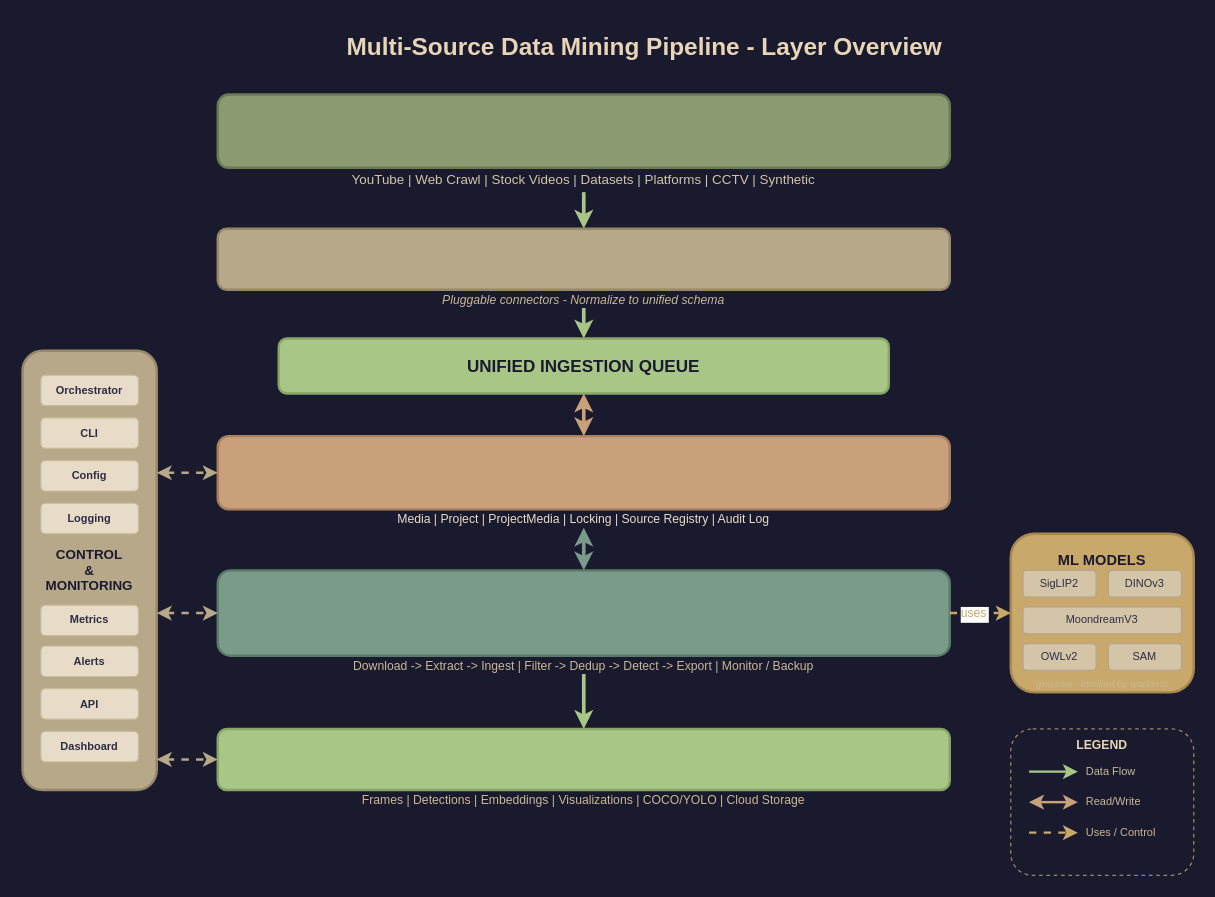
Image size: 1215x897. Some labels were removed from this diagram. The shapes that lost their labels are listed below. From the top down, each one's centre as x and y in pixels, then its label:
(x=583, y=130): DATA SOURCES
(x=583, y=258): SOURCE ADAPTERS
(x=583, y=472): POSTGRESQL DATABASE
(x=583, y=612): DISTRIBUTED WORKERS
(x=583, y=759): OUTPUTS & EXPORTS
